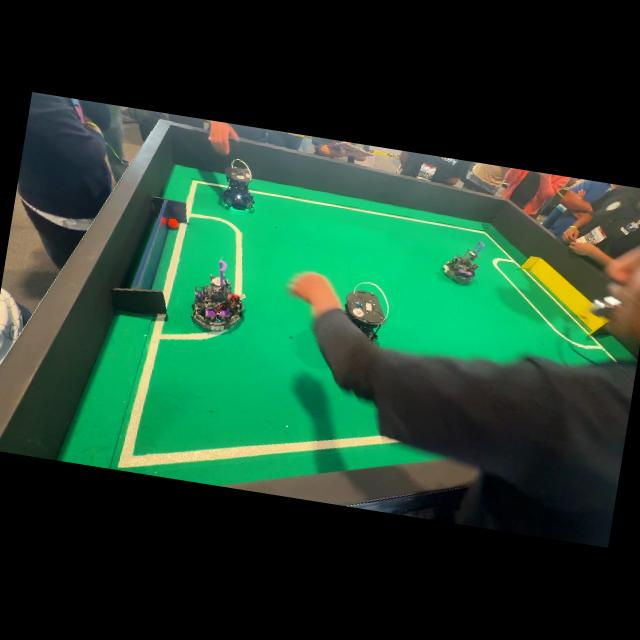ball: (167, 218, 179, 229)
goal: (113, 195, 187, 317), (521, 257, 606, 335)
robot: (192, 261, 243, 330), (346, 282, 389, 341), (443, 242, 484, 284), (223, 162, 254, 210)
